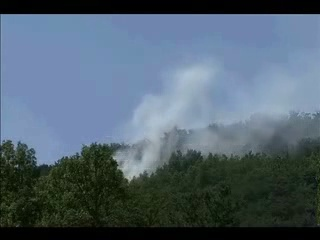smoke: (184, 64, 318, 159), (112, 75, 185, 183)
